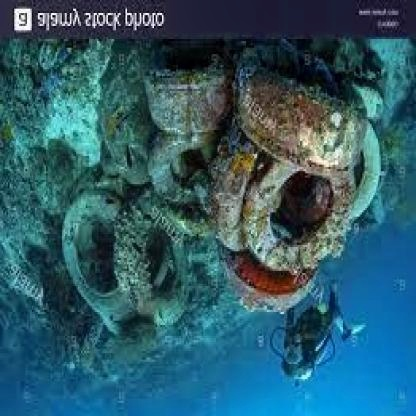tire: (228, 52, 366, 178), (222, 145, 351, 277), (103, 182, 197, 342), (51, 186, 146, 344), (190, 238, 313, 323), (127, 50, 237, 128), (119, 119, 210, 197), (200, 124, 248, 254), (341, 110, 386, 234)
